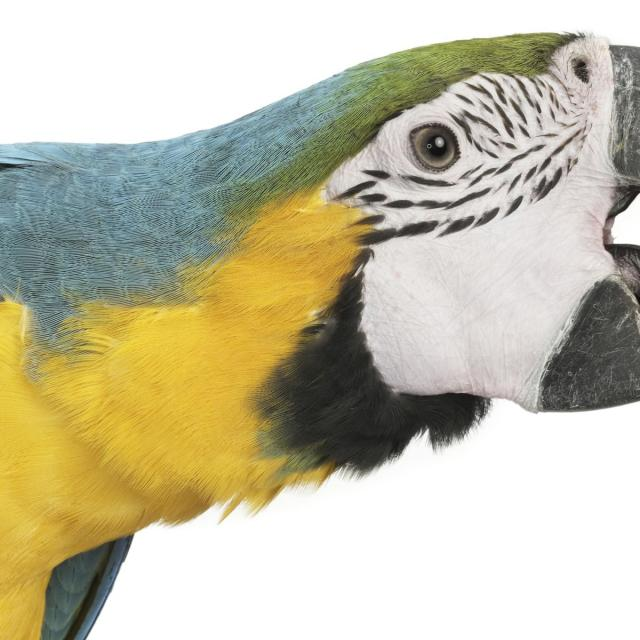parrot: (1, 33, 640, 639)
